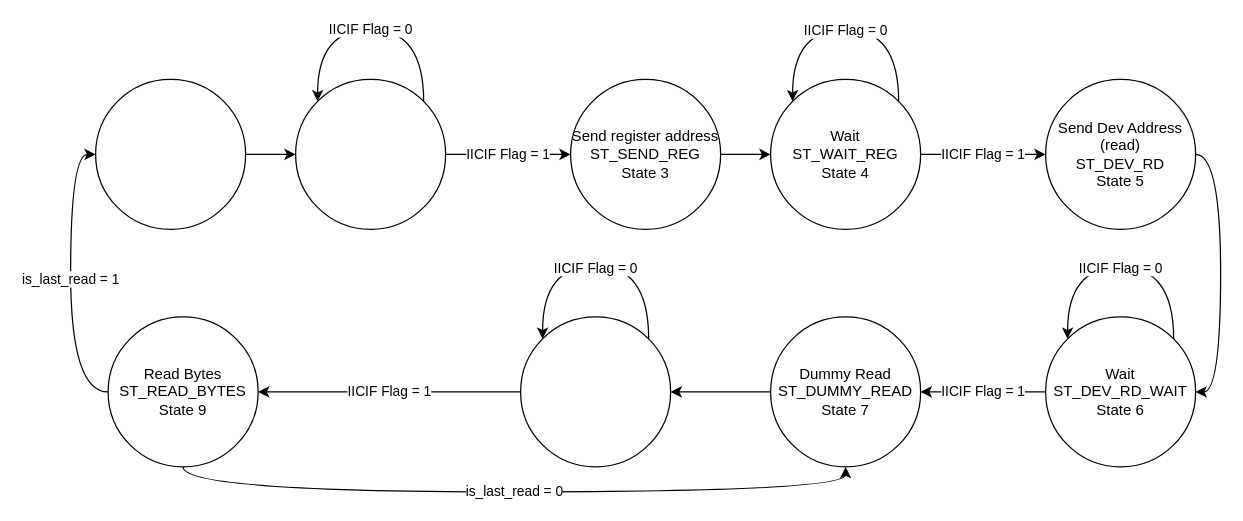
The diagram is 1243 pixels wide and 521 high, and some of its shapes have lost their labels. The centre of each missing label's shape, as x and y in pixels:
Send Dev Address (write) ST_DEV_WR State 1: point (170, 153)
Wait ST_WAIT_BYTES State 8: point (595, 391)
Wait ST_WAIT_DEV State 2: point (370, 153)
